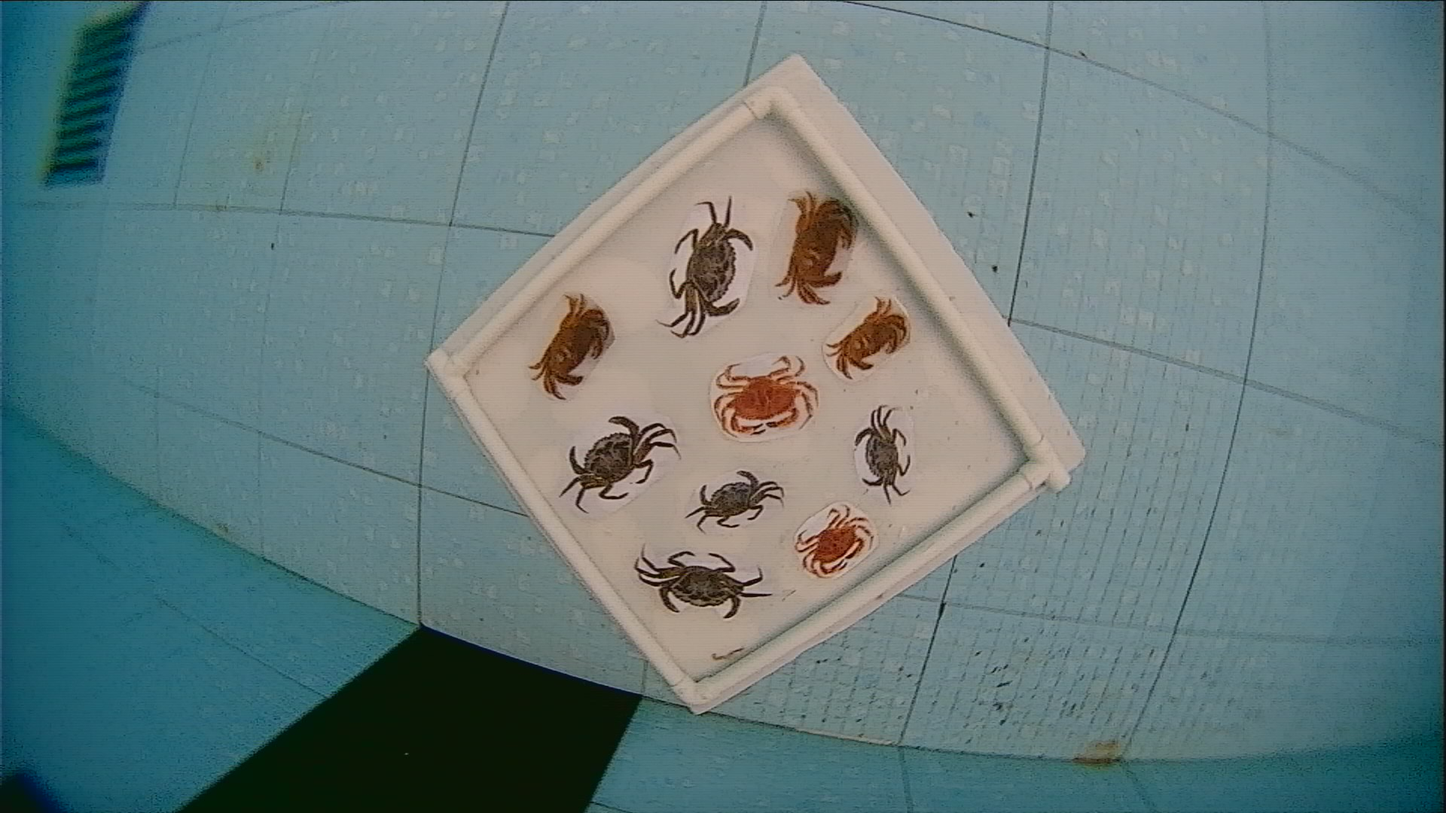GreenCrab: (664, 196, 752, 336), (559, 416, 676, 512), (635, 551, 772, 619), (685, 470, 784, 529), (855, 405, 911, 504)
